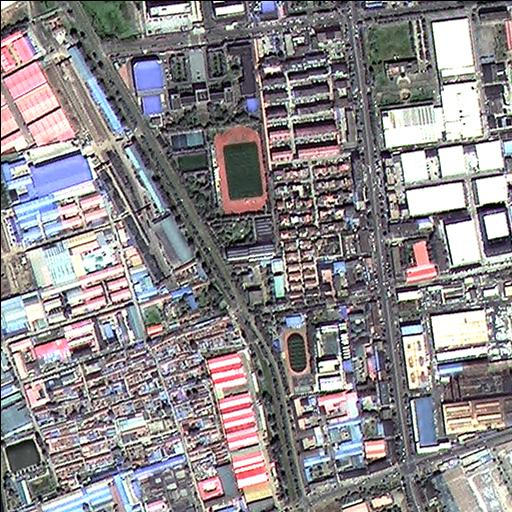school: (112, 41, 277, 261), (254, 311, 343, 391)
